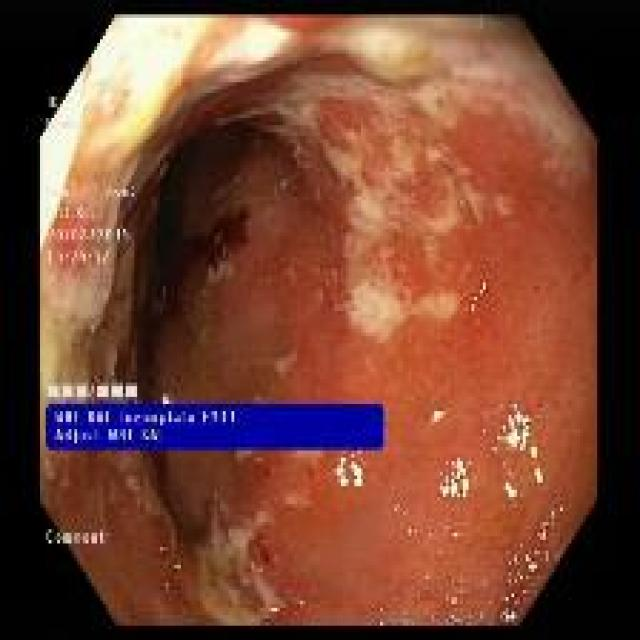ulcerative-colitis: (41, 19, 596, 625)
